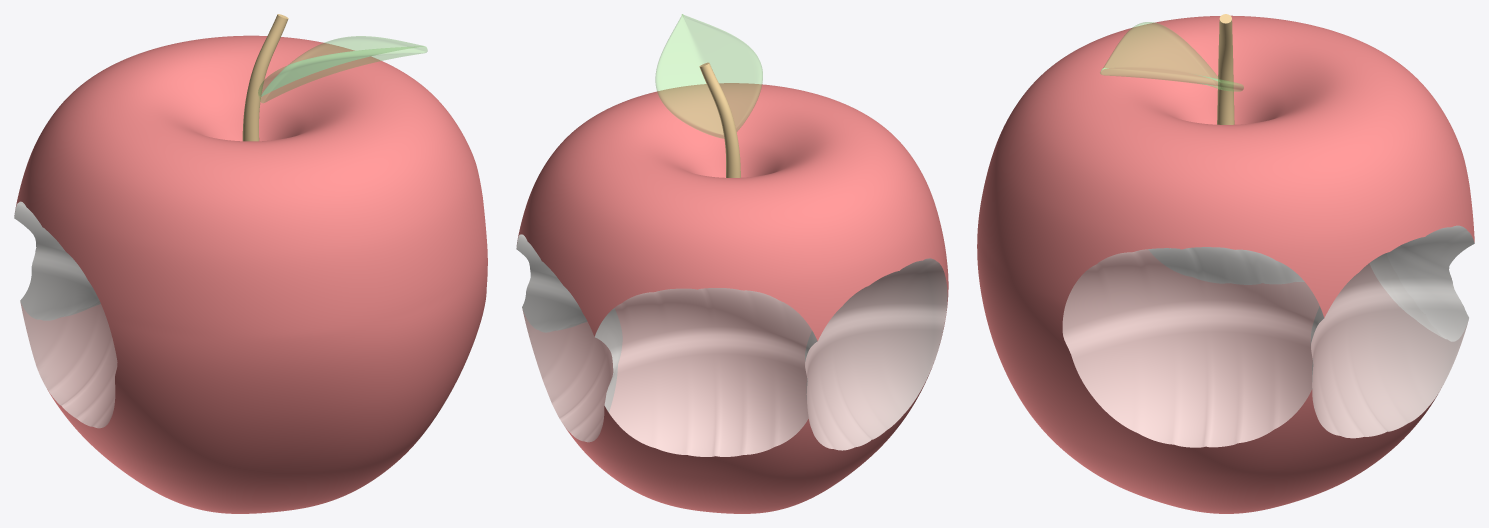
3 renders of one model, left to right at view 1: azimuth 30°, elevation 25°; view 2: azimuth 150°, elevation 25°; view 3: azimuth 270°, elevation 25°, orthographic. The views are drawn at different scales.
Parts seen in each view (by area): view 1: Apple, Leaf, Stem; view 2: Apple, Leaf, Stem; view 3: Apple, Leaf, Stem.
Part boxes in pixels (box(x1,y1,x2,y2)): Apple: box(14, 35, 487, 513); Leaf: box(258, 36, 427, 102); Stem: box(242, 14, 288, 141); Apple: box(516, 83, 948, 513); Leaf: box(655, 14, 762, 138); Stem: box(699, 62, 740, 177); Apple: box(977, 15, 1474, 513); Leaf: box(1100, 22, 1243, 91); Stem: box(1217, 14, 1234, 124).
Bounding box in the file's own units: 1.92 × 2.15 × 2.03.
